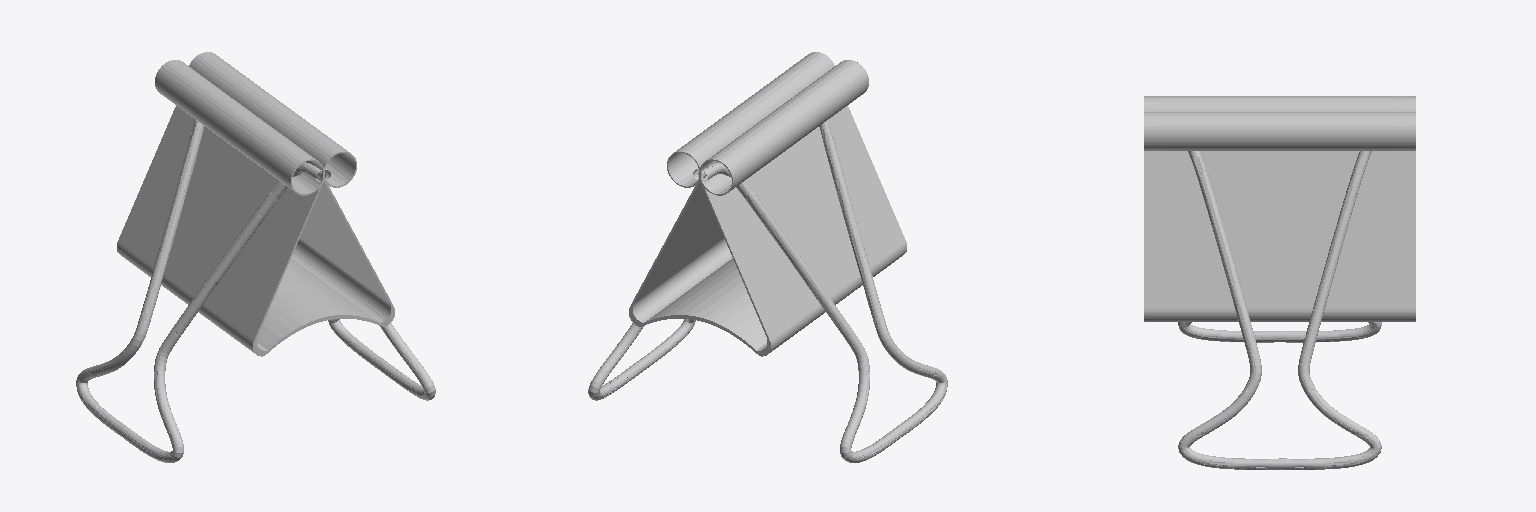
The model's file is sung.obj.
3 views of the same model, side by side, from view 1: azimuth 30°, elevation 25°; view 2: azimuth 150°, elevation 25°; view 3: azimuth 270°, elevation 25° (orthographic).
Bounding box in the file's own units: 6.91 × 7.29 × 6.